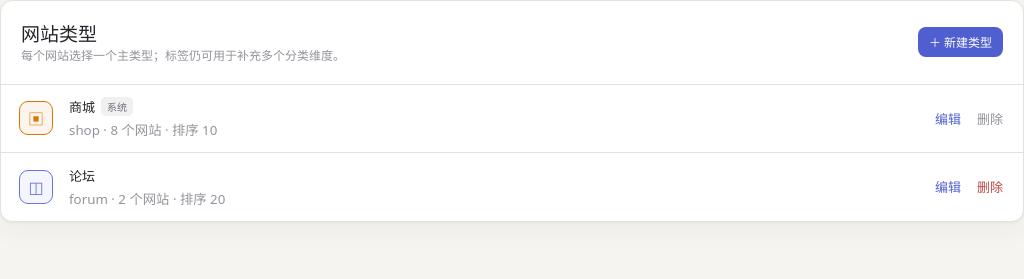
SiteTypesSettingsPage › keeps a visible conflict error when deleting a type that is still in use
Click the button with test id "delete-site-type-type-forum" at (990, 187), box [975, 175, 1005, 198]
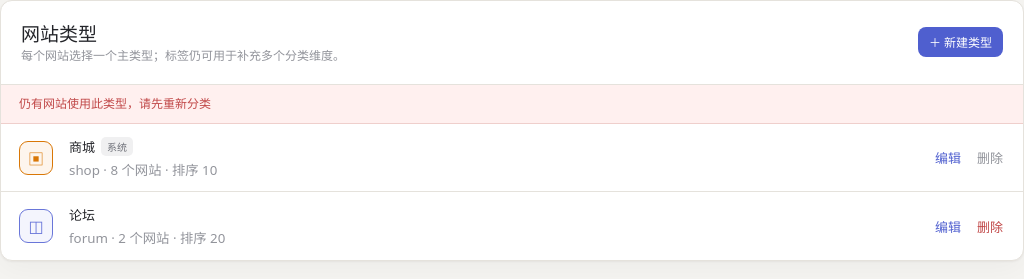
Now the message "仍有网站使用此类型，请先重新分类" is shown, box [1, 85, 1023, 124]
